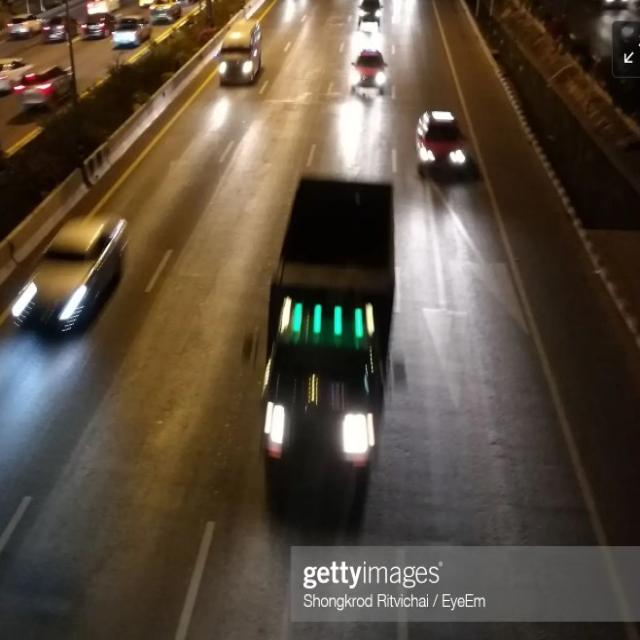car: (17, 212, 127, 335), (414, 109, 467, 181), (218, 17, 263, 86), (16, 62, 73, 110), (348, 49, 388, 95), (112, 16, 149, 47), (81, 12, 118, 40), (42, 16, 80, 42), (8, 12, 43, 38), (149, 0, 184, 24), (356, 0, 383, 27)
truck: (260, 173, 396, 502)
